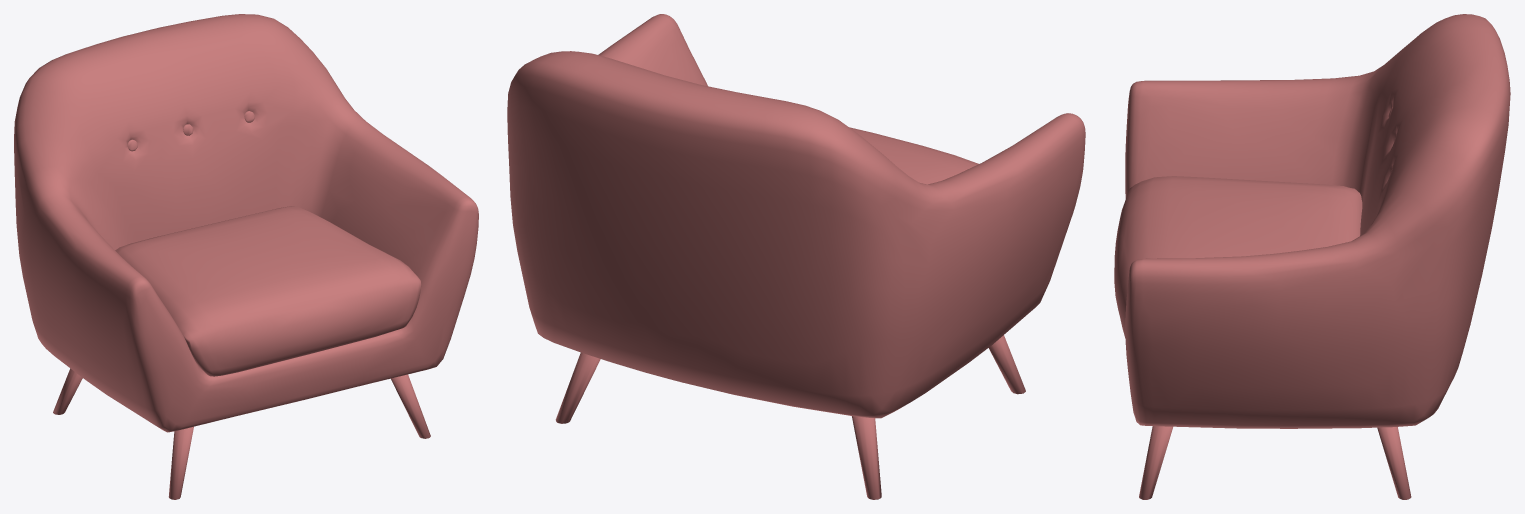
The model's file is chair1.gltf.
3 renders of one model, left to right at view 1: azimuth 30°, elevation 25°; view 2: azimuth 150°, elevation 25°; view 3: azimuth 270°, elevation 25°, orthographic. The views are drawn at different scales.
Visible parts, largest first — view 1: Armchair_01_Chair; view 2: Armchair_01_Chair; view 3: Armchair_01_Chair.
Boxes of the visible parts, x1,y1,x2,y2 form: Armchair_01_Chair: [14, 14, 478, 499]; Armchair_01_Chair: [507, 14, 1085, 499]; Armchair_01_Chair: [1114, 14, 1510, 499].
Bounding box in the file's own units: 0.9952 × 0.8606 × 0.855.
